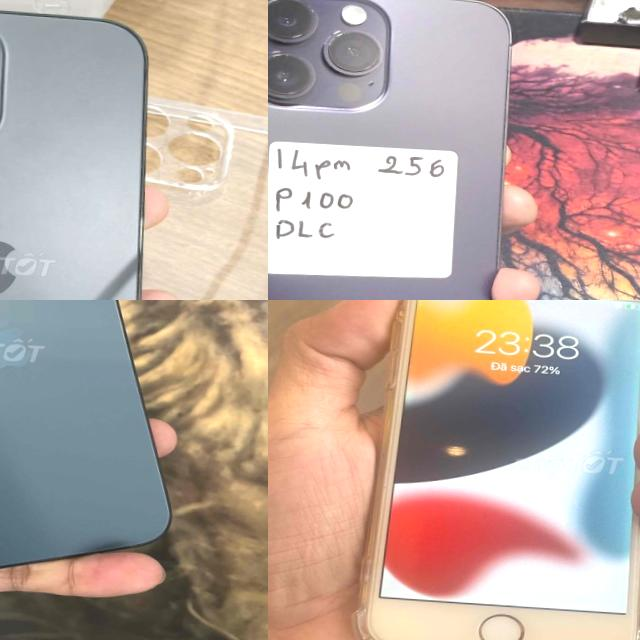gen_12_13: (0, 300, 183, 589)
gen_14: (268, 0, 525, 300), (0, 0, 170, 300)
gen_6: (377, 300, 640, 640)
